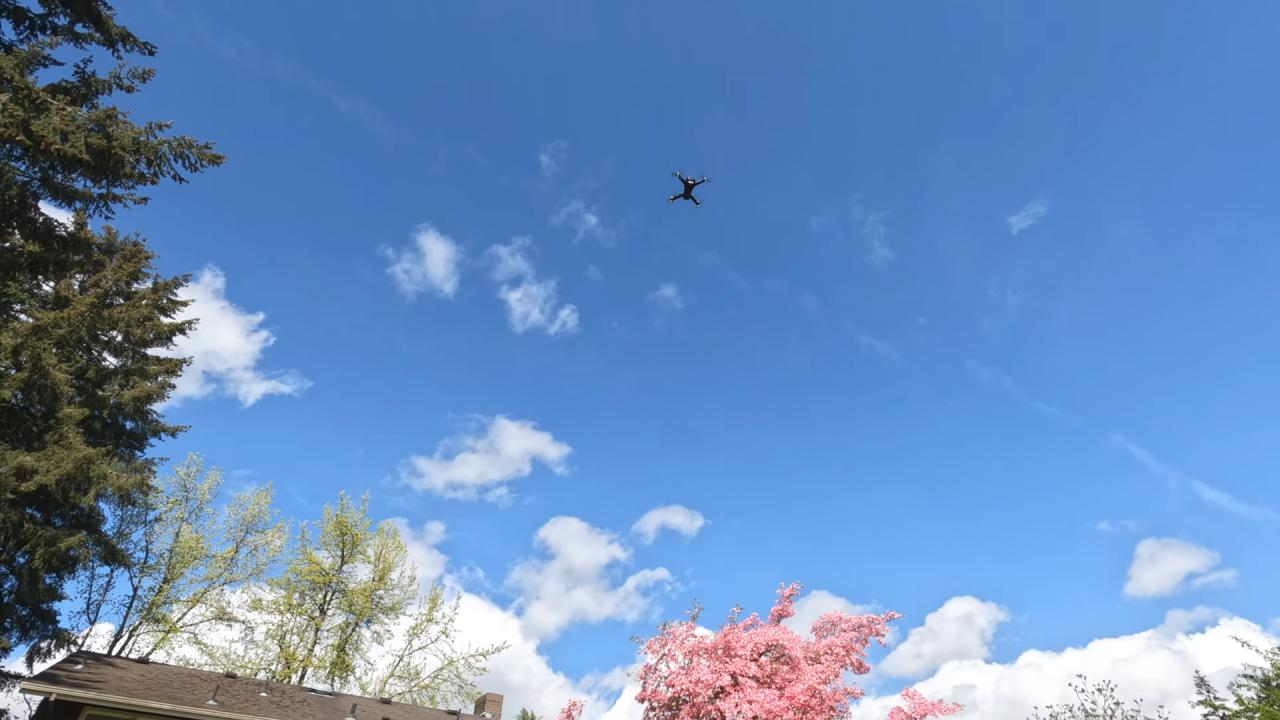Drone: (659, 166, 716, 219)
